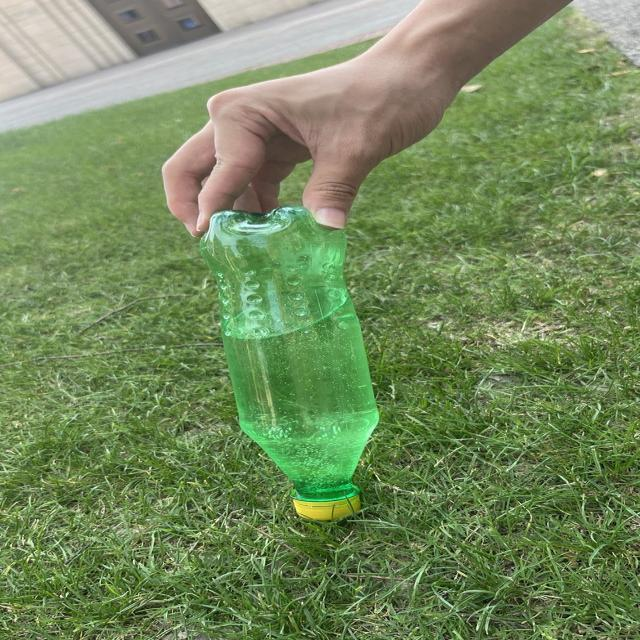medium: (201, 207, 378, 520)
